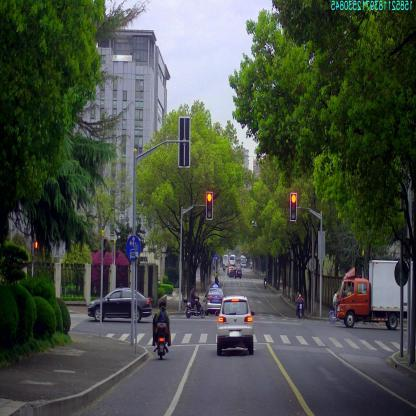traffic-light: (290, 193, 297, 220), (207, 192, 212, 219)
